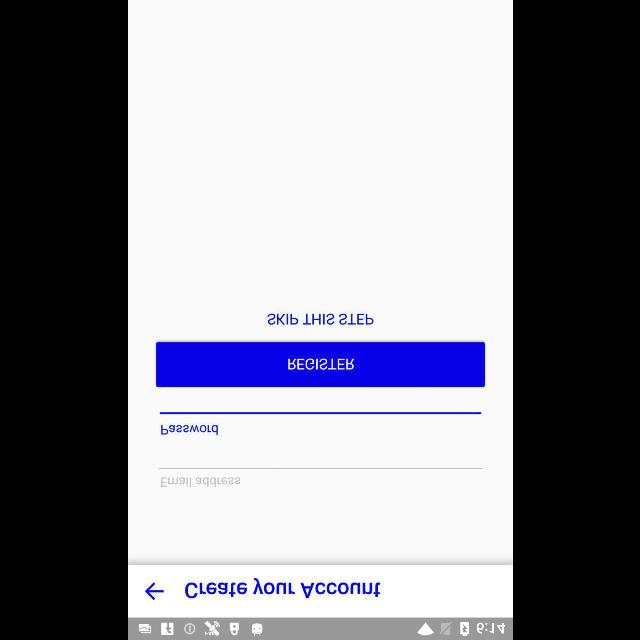icon: (144, 582, 164, 600)
input: (159, 412, 481, 434), (158, 468, 482, 487)
text: (184, 578, 380, 598), (267, 313, 373, 325), (160, 477, 240, 487), (160, 425, 218, 435)
textbutton: (156, 342, 484, 386)
toolbar: (128, 565, 512, 617)
uppertaskbar: (128, 617, 512, 639)
